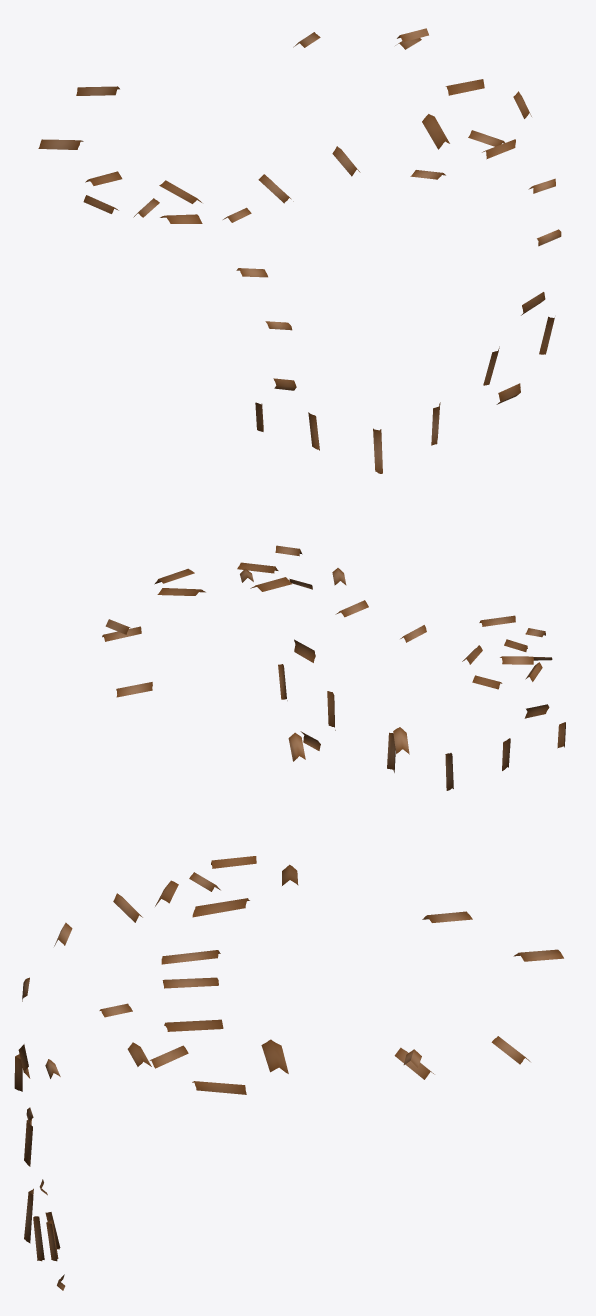
File: RopeNet.fbx
3 views of the same model, one above another, from view 1: azimuth 30°, elevation 25°; view 2: azimuth 150°, elevation 25°; view 3: azimuth 270°, elevation 25° (orthographic). The views are drawn at different scales.
Parts seen in each view (by area): view 1: RopeNet; view 2: RopeNet; view 3: RopeNet.
Part boxes in pixels (bbox=[...]): RopeNet: bbox=[38, 28, 561, 473]; RopeNet: bbox=[102, 545, 565, 790]; RopeNet: bbox=[14, 856, 563, 1290].
Bounding box in the file's own units: 110 × 66.17 × 98.78.
